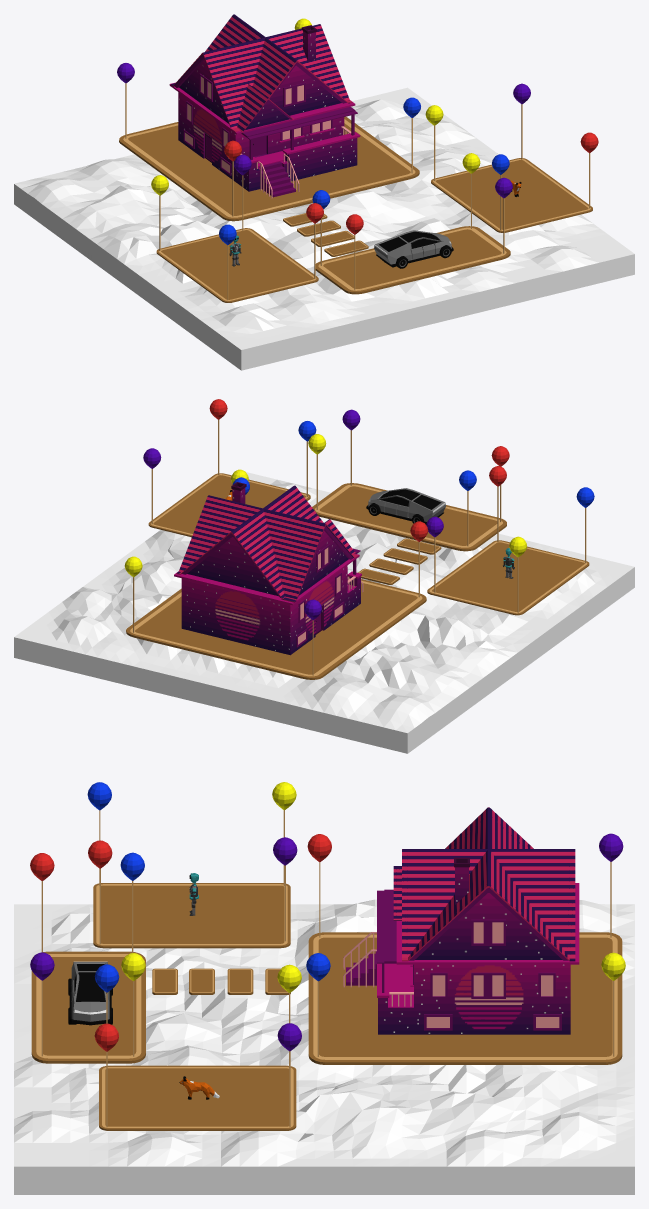
The picture shows the model from 3 angles, top to bottom: view 1: azimuth 30°, elevation 25°; view 2: azimuth 150°, elevation 25°; view 3: azimuth 270°, elevation 25°; orthographic projection. The views are drawn at different scales.
Visible parts, largest first — view 1: Cube.013, Cube.156, VEHICLES_CYBERTRUCK; view 2: Cube.013, Cube.156, VEHICLES_CYBERTRUCK; view 3: Cube.013, Cube.156, VEHICLES_CYBERTRUCK.
Boxes of the visible parts, x1,y1,x2,y2 form: Cube.013: [14, 18, 634, 370]; Cube.156: [169, 14, 360, 198]; VEHICLES_CYBERTRUCK: [374, 230, 453, 268]; Cube.013: [14, 399, 634, 753]; Cube.156: [174, 482, 363, 655]; VEHICLES_CYBERTRUCK: [366, 488, 445, 524]; Cube.013: [14, 782, 634, 1194]; Cube.156: [343, 807, 579, 1034]; VEHICLES_CYBERTRUCK: [68, 961, 112, 1025].
Size of the model in its own units: 4000 by 1687 by 4000.
32 materials, 3 textured.
